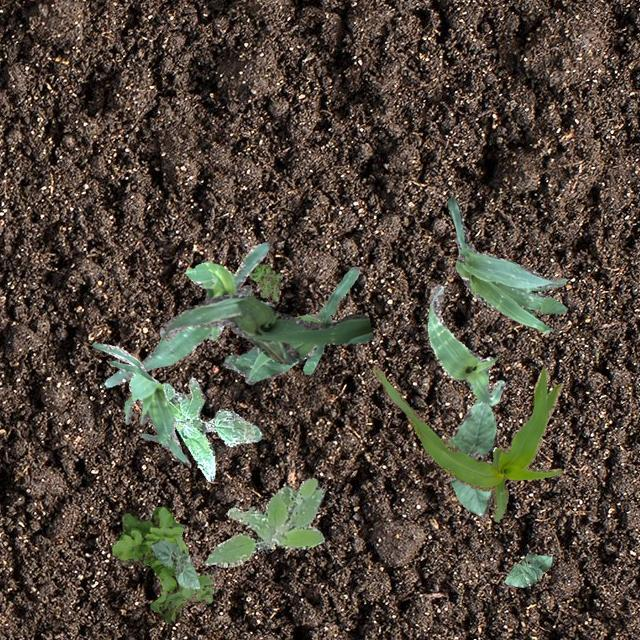crop: (372, 366, 562, 520), (104, 242, 268, 386), (446, 198, 566, 332), (222, 266, 358, 384), (158, 294, 372, 364), (90, 342, 188, 464), (426, 284, 504, 404), (448, 398, 496, 514), (150, 540, 198, 588), (502, 552, 552, 586)
weed: (110, 506, 212, 624), (204, 478, 324, 566), (160, 376, 260, 481), (240, 252, 280, 300)
